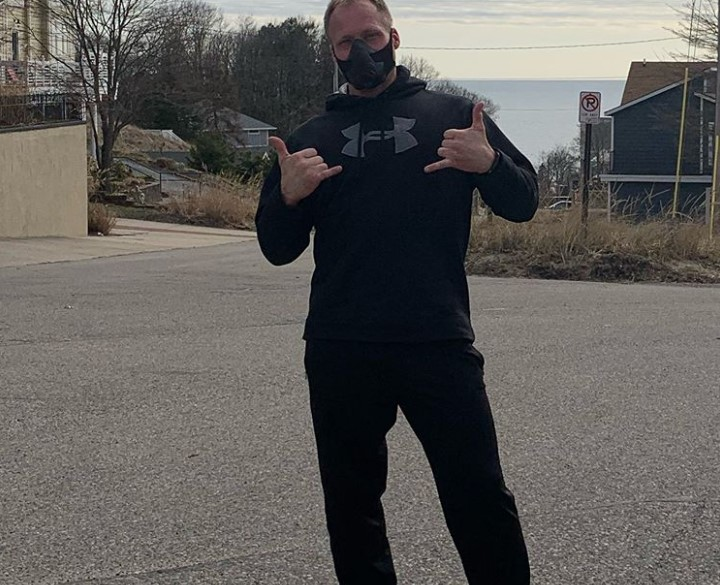face_with_mask: (323, 4, 400, 95)
